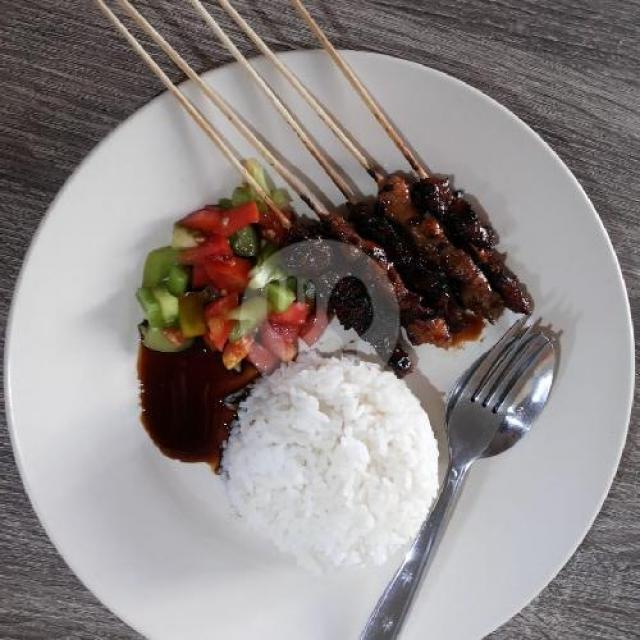nasi: (220, 354, 442, 579)
sate: (96, 0, 538, 320)
